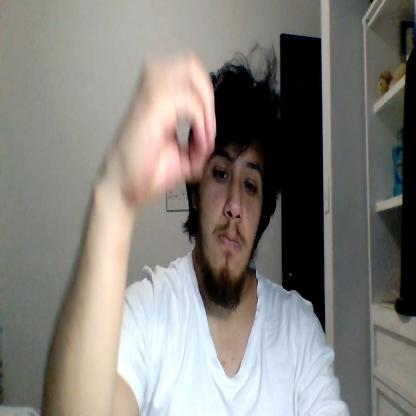O: (121, 53, 216, 195)
